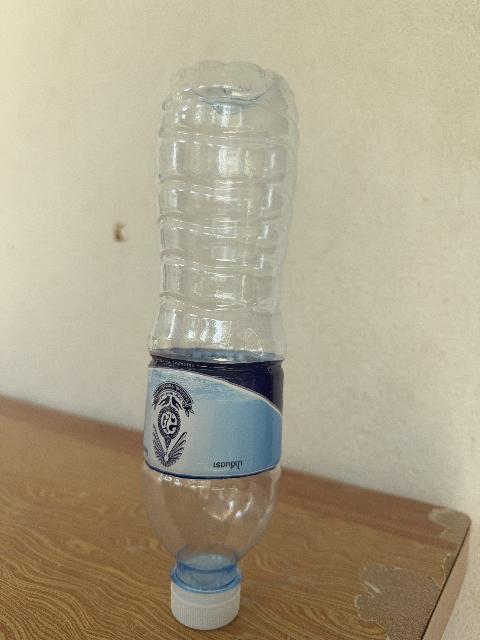bottle: (143, 62, 297, 629)
